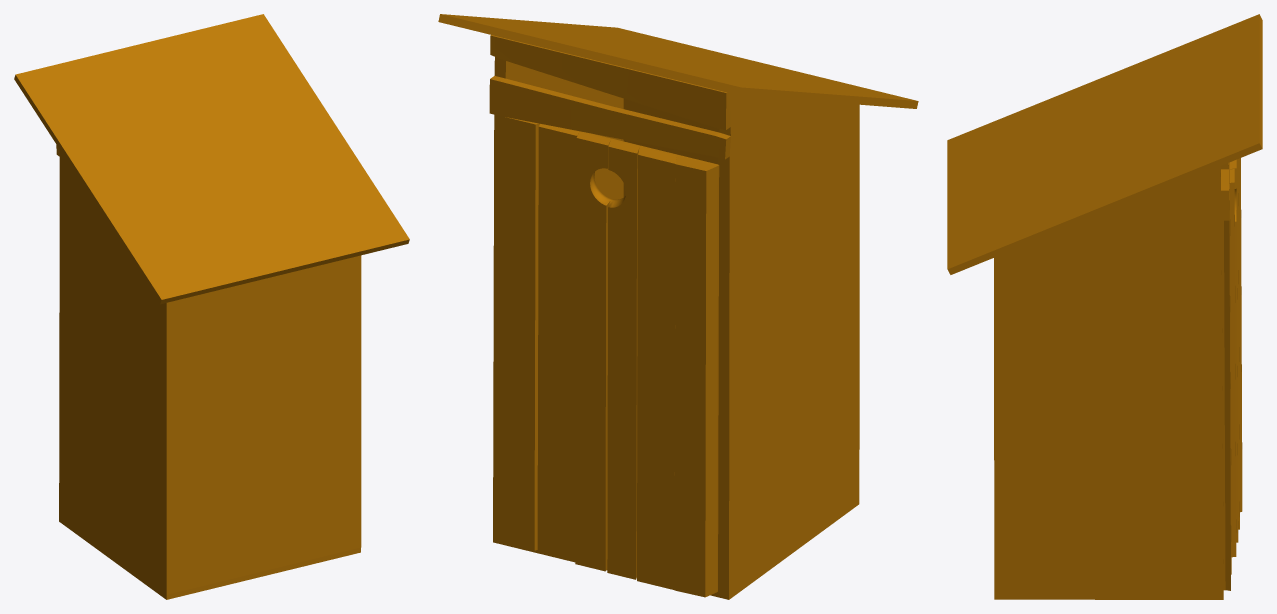
The model's file is banheiro.fbx.
3 views of the same model, side by side, from view 1: azimuth 30°, elevation 25°; view 2: azimuth 150°, elevation 25°; view 3: azimuth 270°, elevation 25° (orthographic). The views are drawn at different scales.
Visible parts, largest first — view 1: Esconderijo; view 2: Esconderijo, porta; view 3: Esconderijo, porta.
Part boxes in pixels (box(x1,y1,x2,y2)): Esconderijo: box(14, 14, 409, 599); Esconderijo: box(438, 14, 918, 599); porta: box(497, 116, 719, 597); Esconderijo: box(947, 14, 1262, 599); porta: box(1221, 158, 1242, 590).
Bounding box in the file's own units: 286 × 485 × 294.
